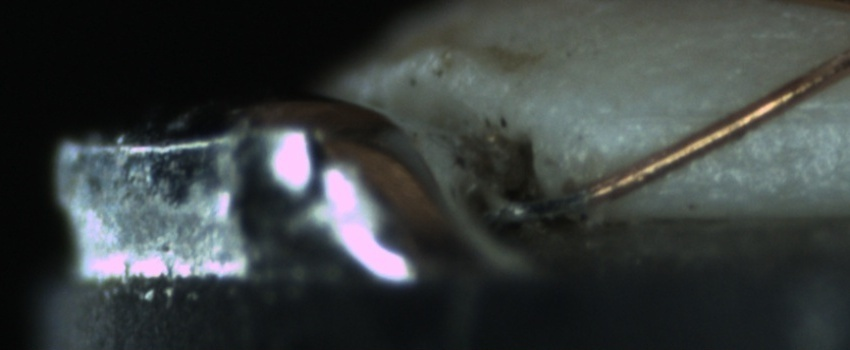DL: (618, 87, 849, 141)
TS: (506, 188, 592, 222)
